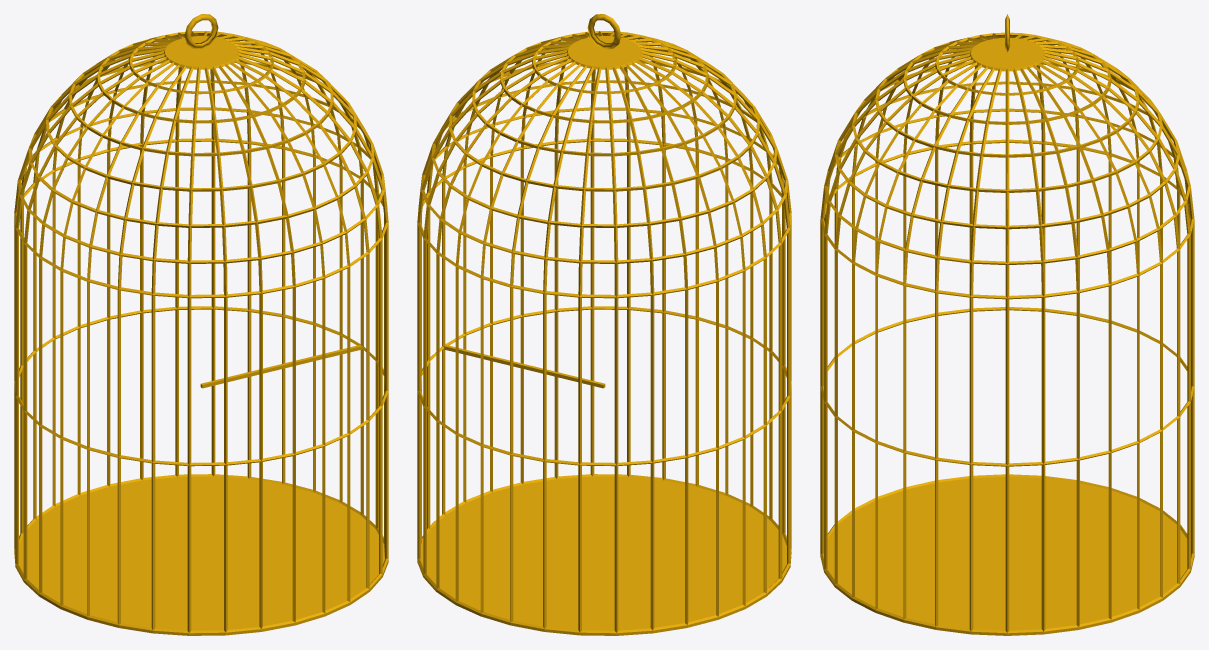
File: BirdCage.fbx
The picture shows the model from 3 angles, left to right: view 1: azimuth 30°, elevation 25°; view 2: azimuth 150°, elevation 25°; view 3: azimuth 270°, elevation 25°; orthographic projection.
Visible parts, largest first — view 1: Sphere, Cube, Torus; view 2: Sphere, Cube, Torus; view 3: Sphere.
Part boxes in pixels (<box>): Sphere: <box>14,31,388,635</box>; Cube: <box>200,345,362,388</box>; Torus: <box>184,14,218,49</box>; Sphere: <box>417,31,791,635</box>; Cube: <box>443,345,605,388</box>; Torus: <box>587,14,621,49</box>; Sphere: <box>820,32,1194,635</box>.
Bounding box in the file's own units: 202 × 322 × 202.
